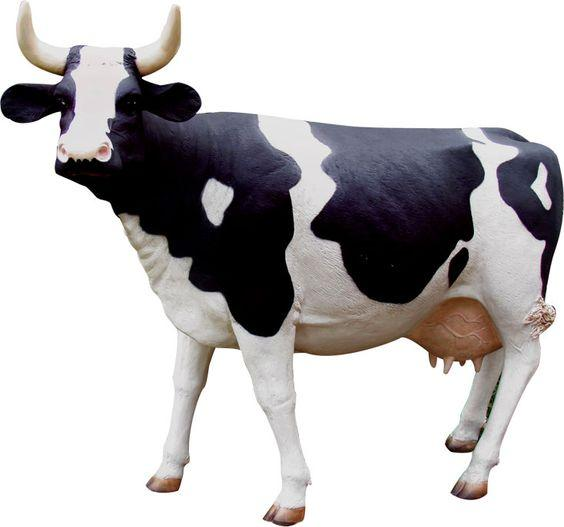cow: (13, 13, 553, 496)
